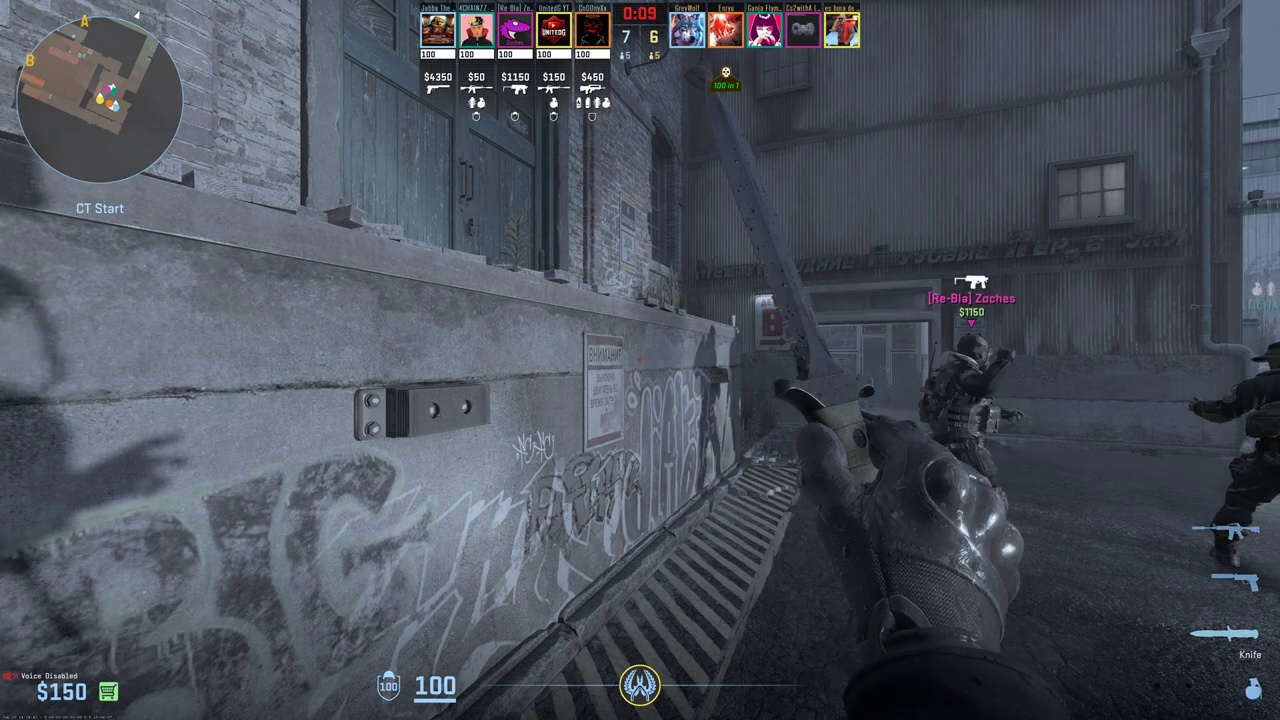CT: (1192, 343, 1280, 569), (925, 333, 1010, 468)
